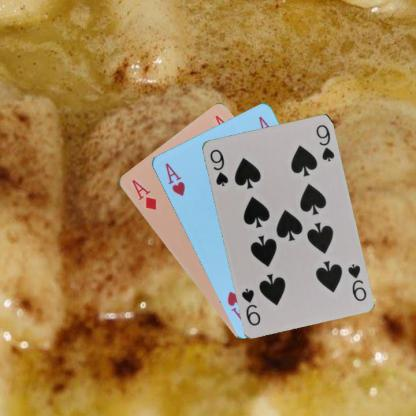9s: (344, 261, 367, 302), (207, 146, 229, 188)
Ad: (129, 177, 158, 211)
Ah: (162, 160, 186, 198)
